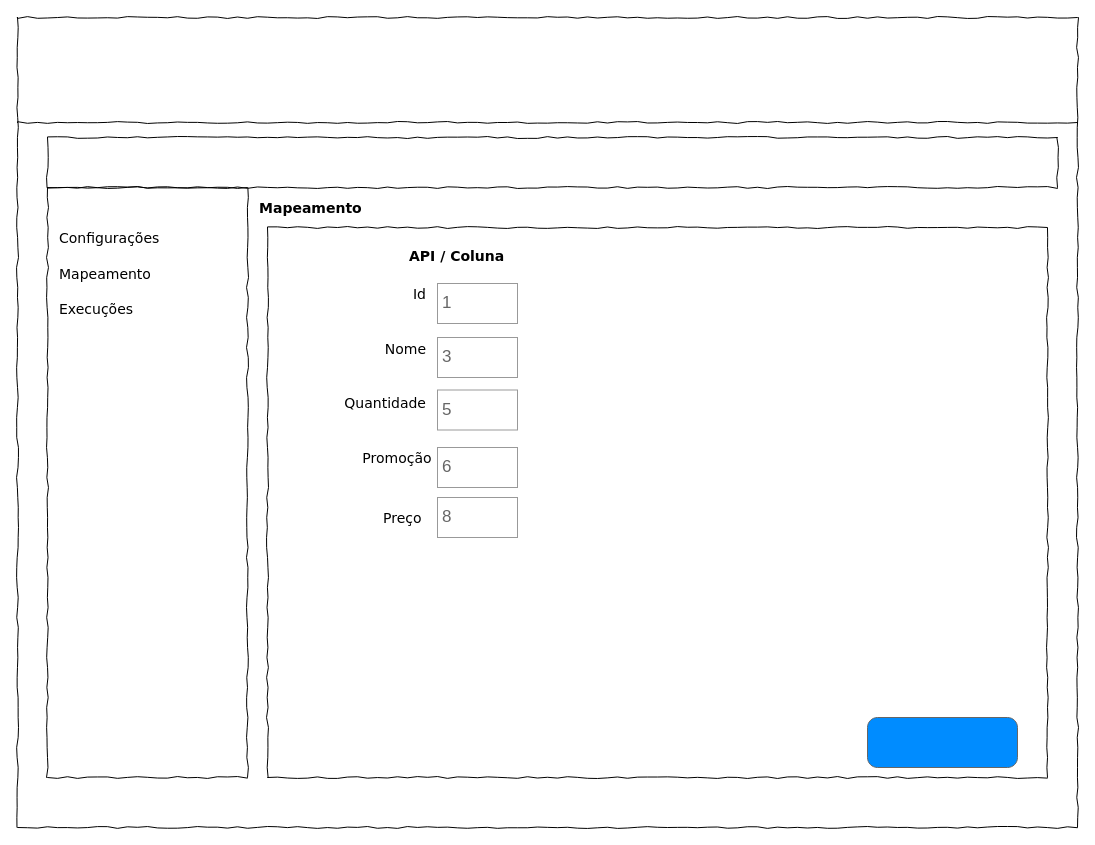
This 1095x845 diagram has some shape labels left out. Each missing label, with the centre of its shape:
"Painel de Controle" goes at [552,162].
"Salvar" goes at [942,742].
